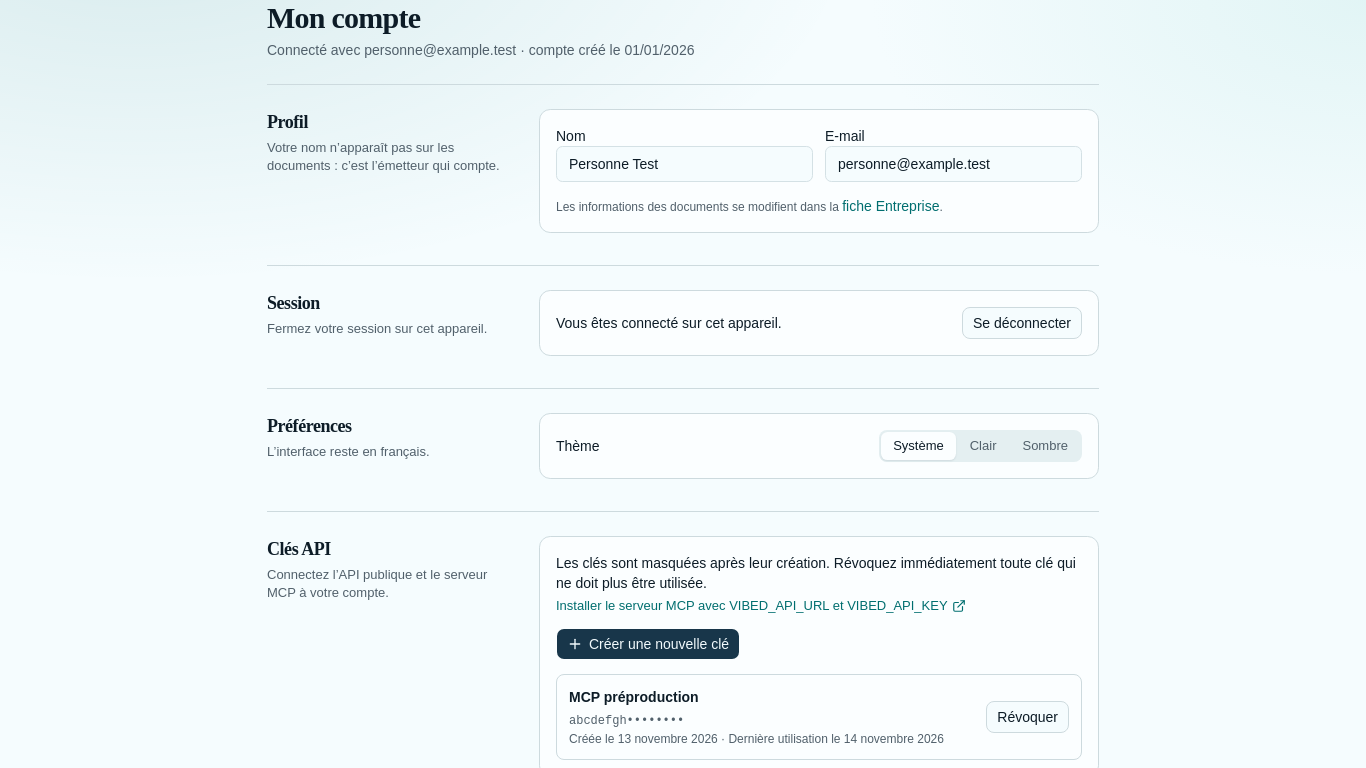
Account API keys › keeps the dialog open while creation is pending so the one-time secret cannot be lost
This screenshot has width=1366, height=768.
Expected: the text "MCP préproduction" is shown, [569,687,699,707]
Click the button "Créer une nouvelle clé". click: (648, 644)
box: [556,628,740,660]
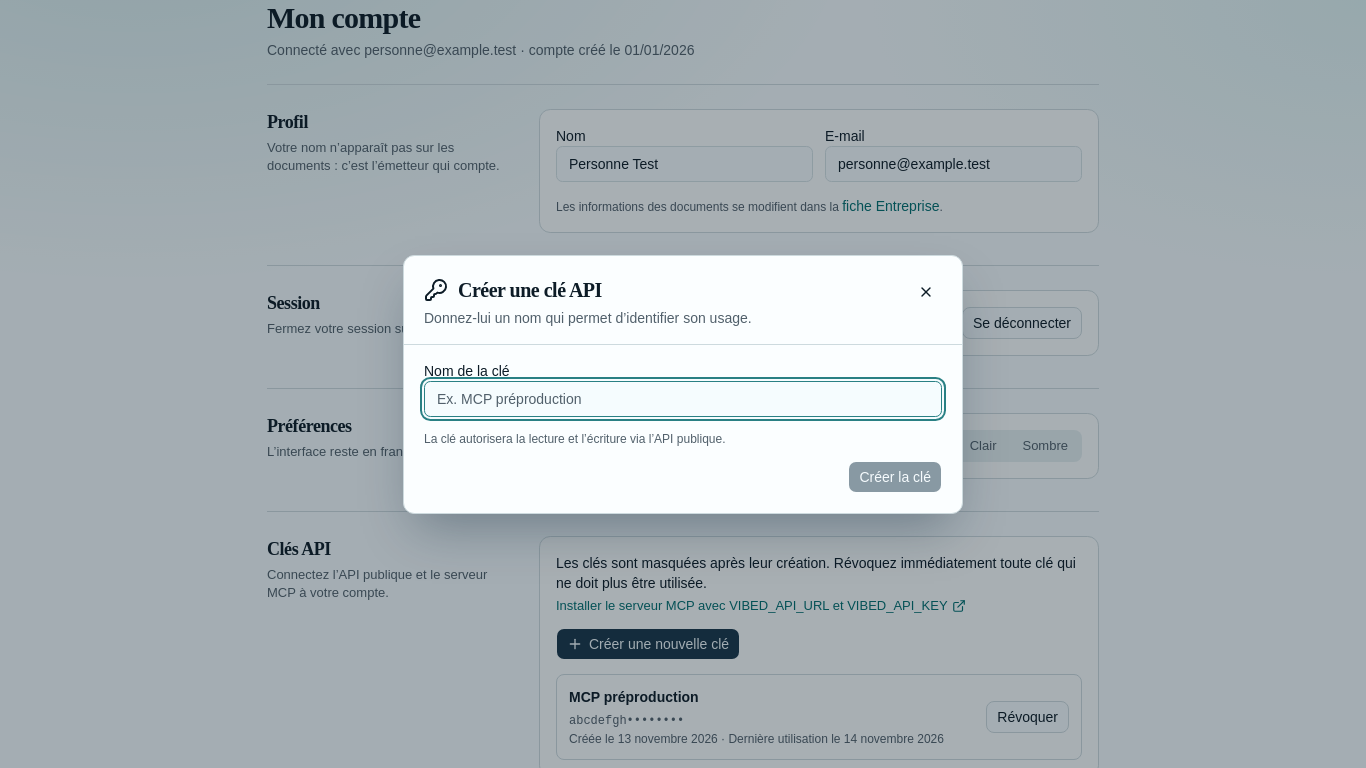
Type "MCP en attente" into the field labelled "Nom de la clé". click: (683, 398)
box: [424,380,942,416]
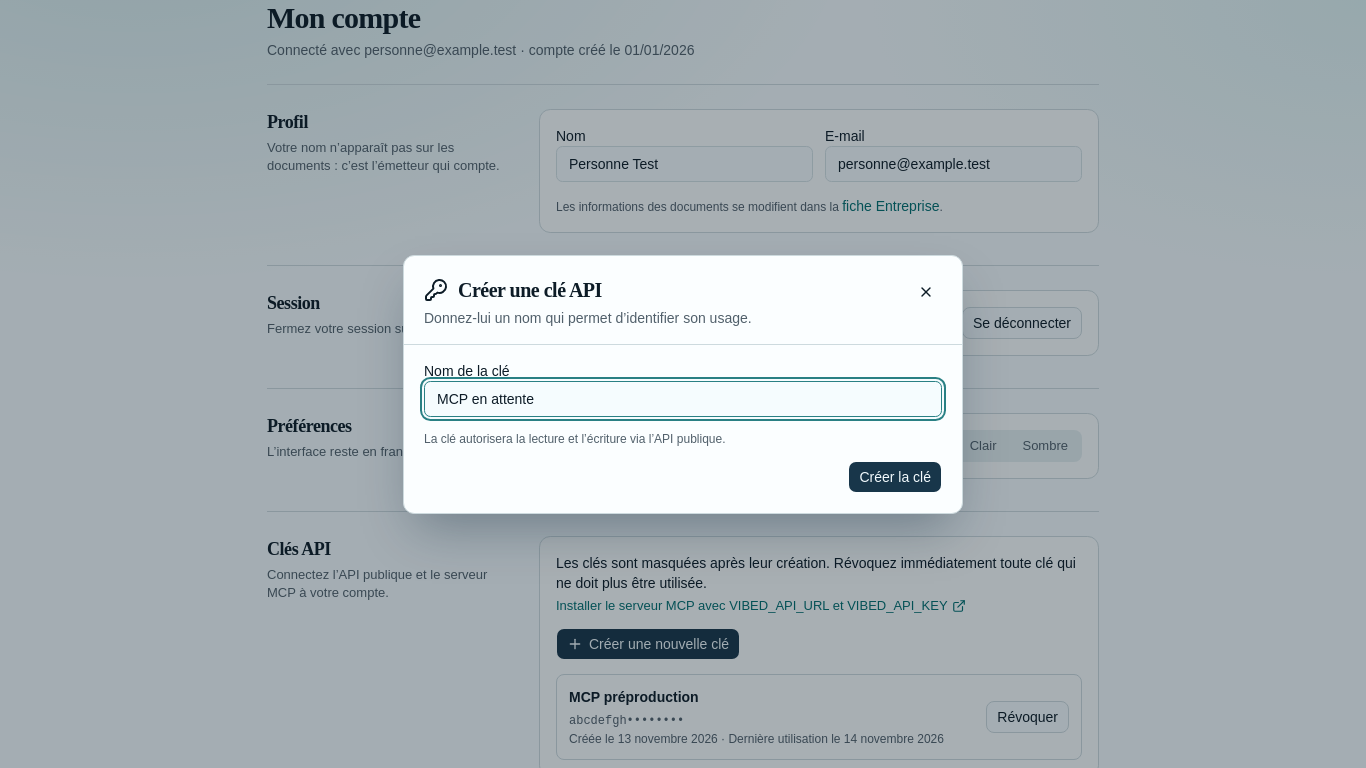
Click the button "Créer la clé". click: (895, 476)
box: [848,460,942,492]
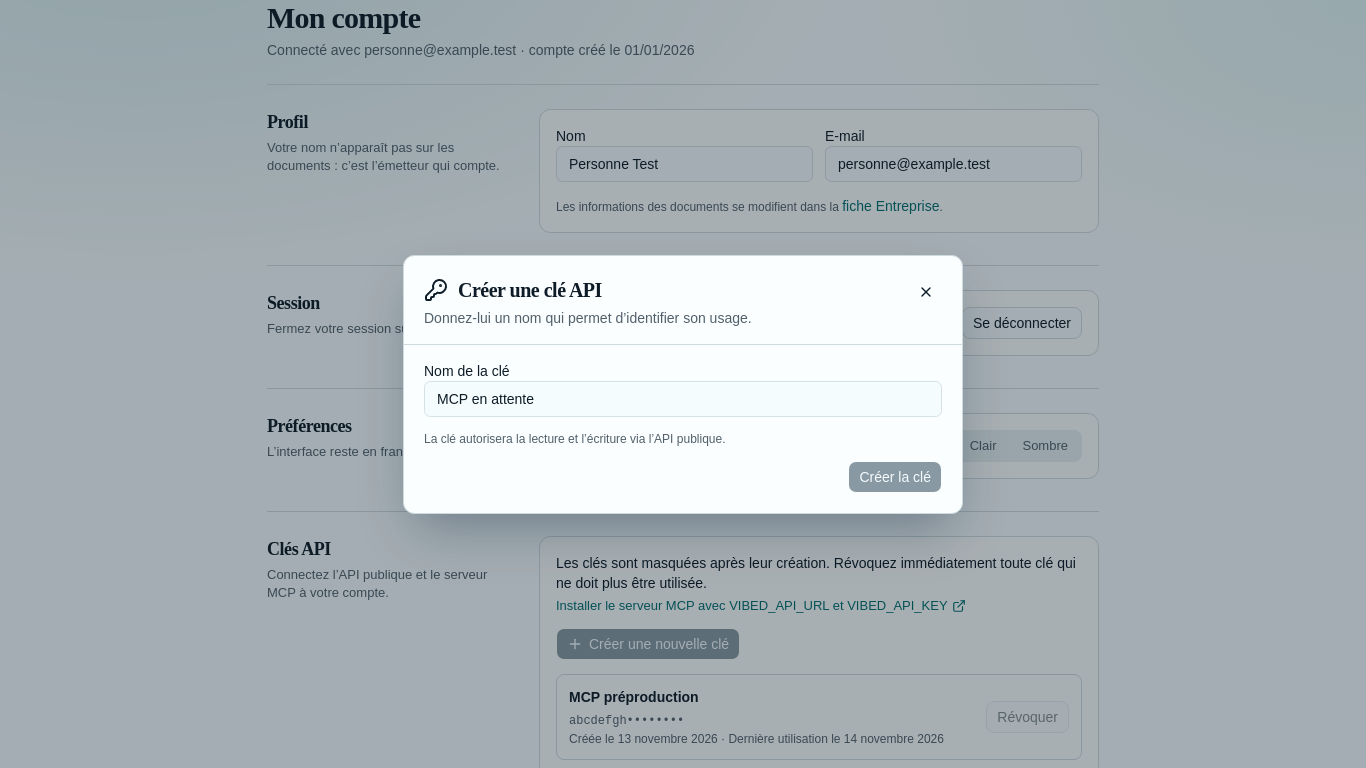
Click the button named "Fermer". click: (926, 292)
box: [910,276,942,308]
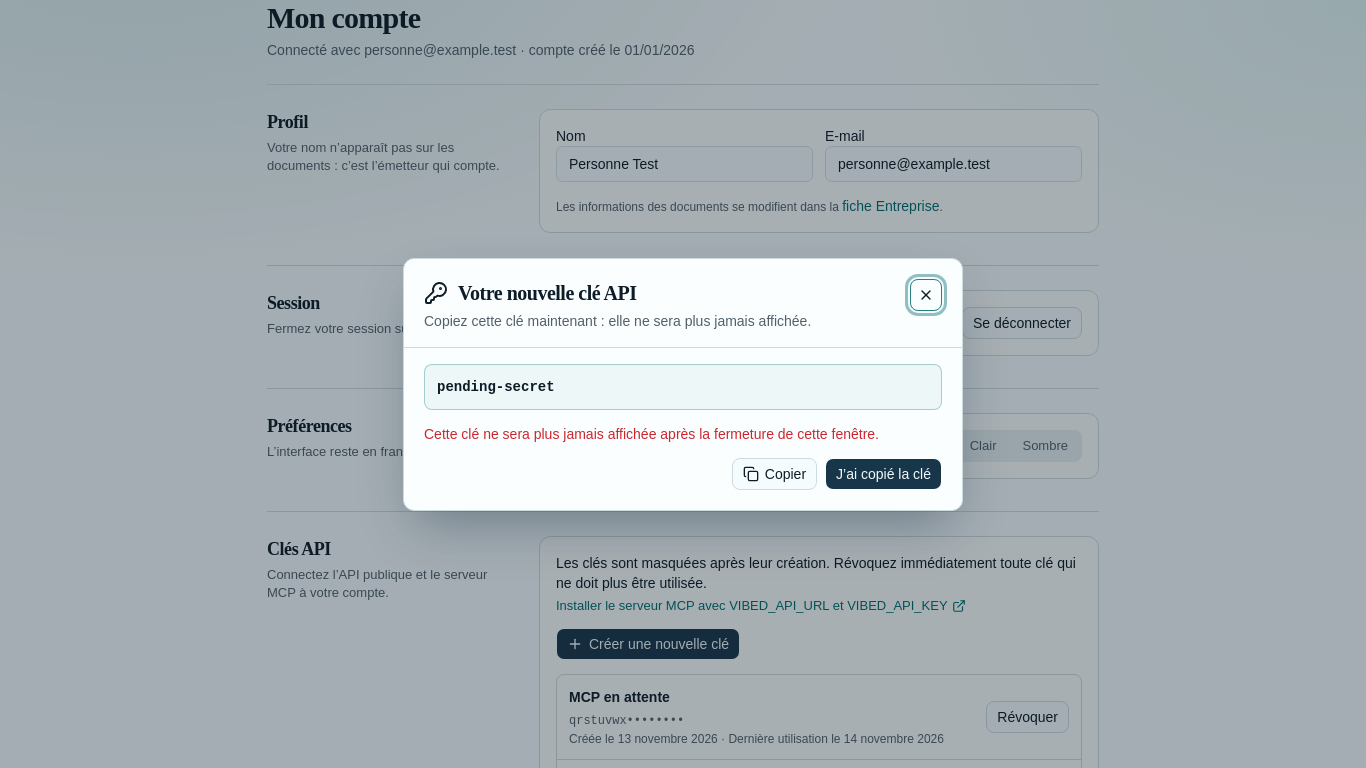
Now the dialog is shown, box [403,258,963,510]
Now the text "pending-secret" is shown, box [437,378,555,394]
